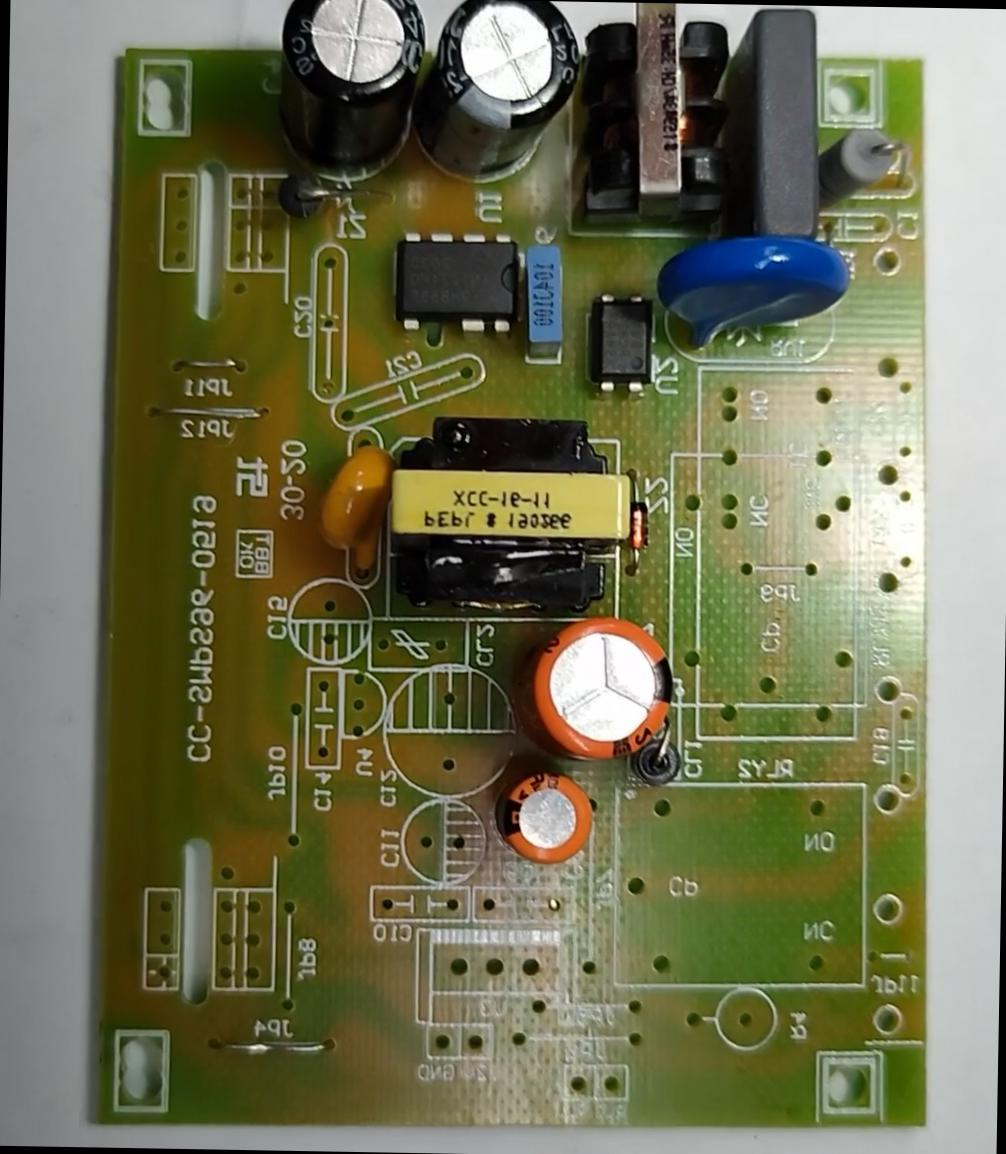Cap1: (530, 613, 675, 772)
Cap2: (502, 770, 603, 867)
Cap3: (415, 0, 585, 181)
Cap4: (277, 0, 428, 190)
MOSFET: (388, 222, 521, 342)
Mov: (654, 228, 858, 366)
Resistor: (816, 120, 901, 215)
Transformer: (382, 407, 642, 609), (586, 2, 736, 221)
